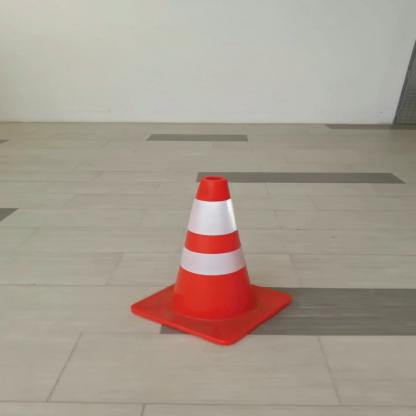cone: (126, 166, 296, 348)
